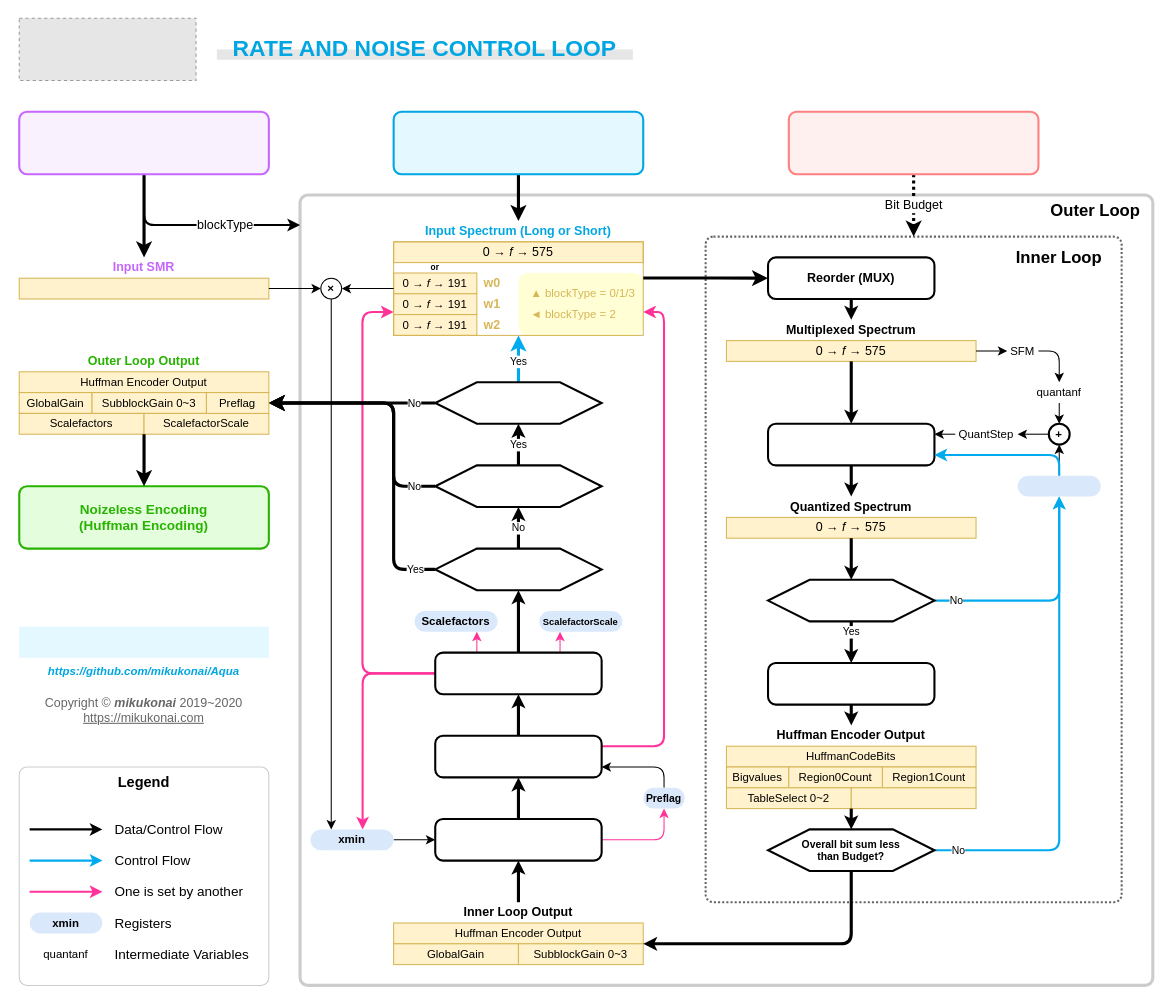
Image size: 1172x1005. Some labels were removed from this diagram. Grey dashed boxes stand in for pictures. The shapes that lost their labels are listed below. From the top down, each one's centre as x and y in pixels, then its label:
At point 143,142: "Psychoacoustic Model".
At point 518,142: "Hybrid Filterbank".
At point 913,142: "Bit Reservoir".
At point 143,288: "0 → sfb → 20(Long) / 11(Short)".
At point 518,402: "At least 1 SFB violate the threshold?".
At point 850,444: "Quantizer".
At point 518,486: "All Scalefactors below upper limit?".
At point 1058,485: "qquant++".
At point 518,569: "All SFBs amplified?".
At point 850,600: "All Quantized Value within Table Range?".
At point 143,641: "AQUA MP3 ENCODER".
At point 518,673: "Amplify all SFBs which violate the thresholds".
At point 850,683: "Huffman Encoder".
At point 518,756: "Pre-emphasis".
At point 913,798: "Count1TableSelect".
At point 518,839: "Calculate Noise".
